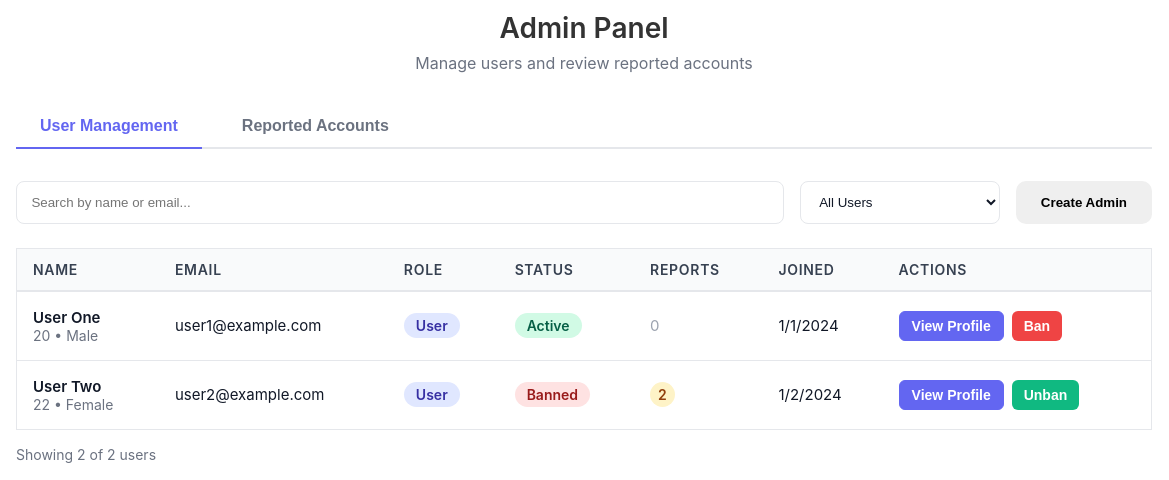
Scenario: AdminPanel › User Management Tab › should filter users by search term
The image size is (1169, 480).
Expected: the text "User One" is shown, [33,308,100,327]
Type "User One" into the field with placeholder "Search by name or email..." at (400, 202), box [16,181,784,224]
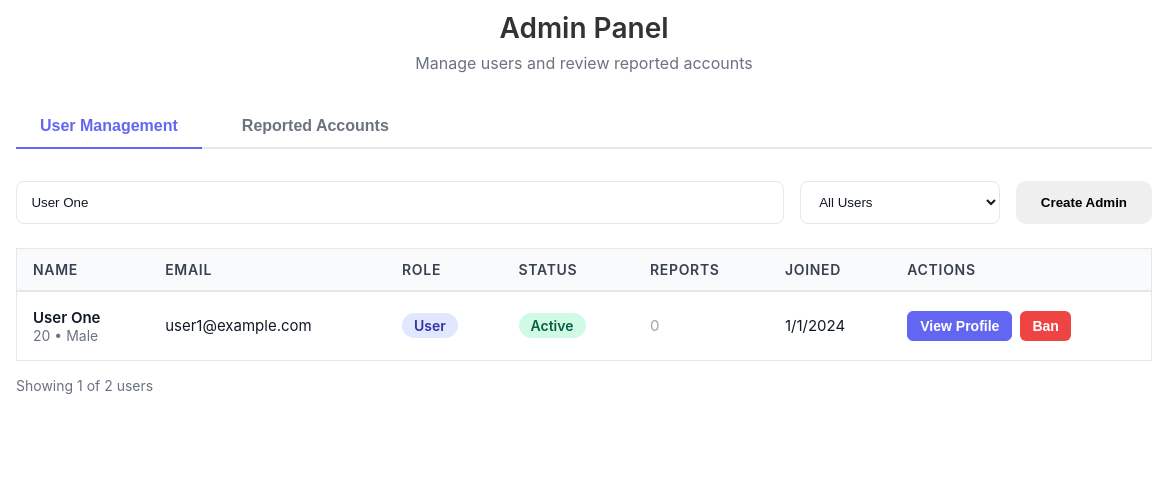
Expected: the text "User One" is shown, [33,308,100,327]
Result: the text "User Two" is gone
